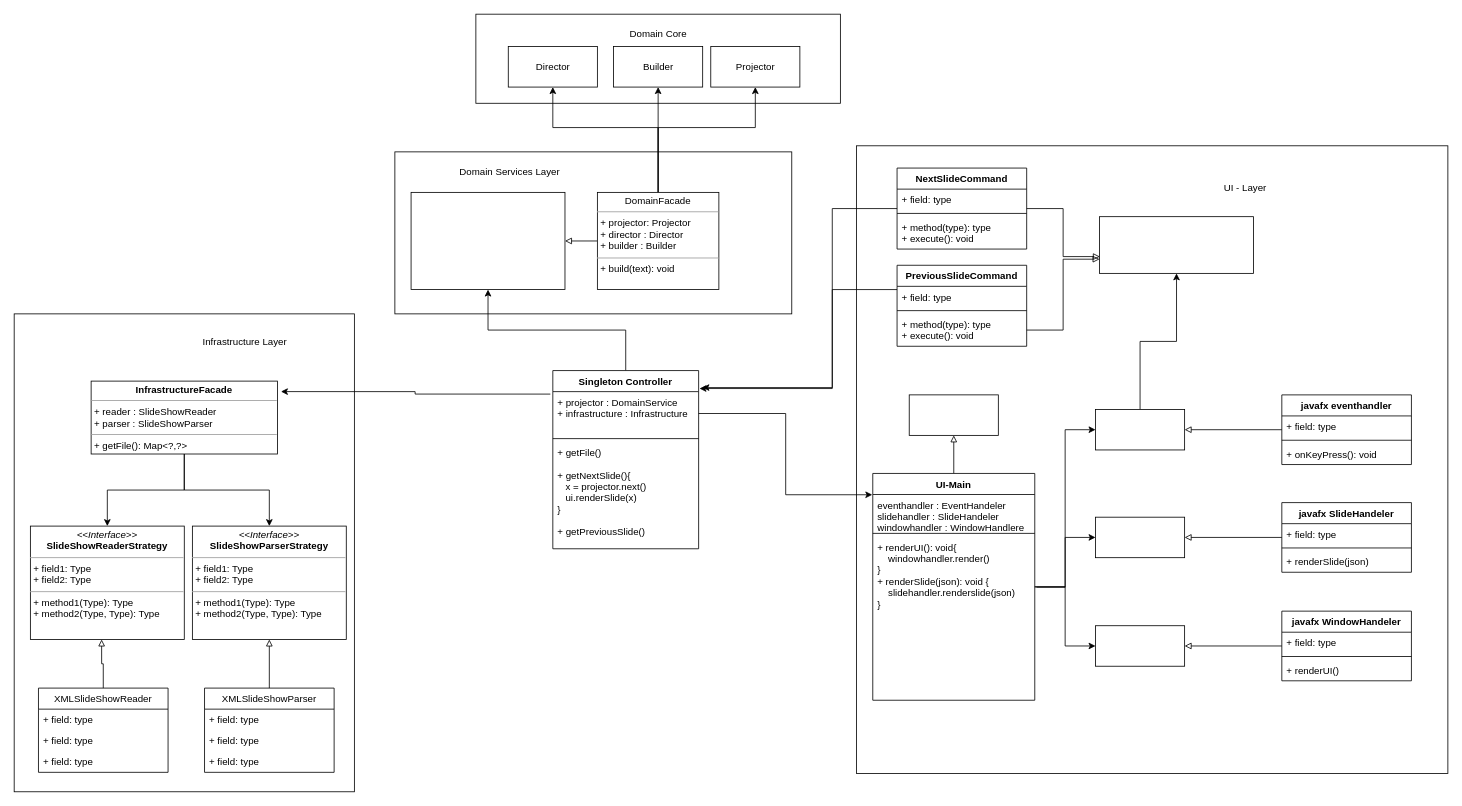
Some shapes in this 1462 by 806 pixel diagram are drawn without their labels. Here are the shapes that lost their labels. From the top down, the centre of each, then its label:
At [487,241]: "<<Interface>> DomainService + + build(text): void".
At [1176,244]: "<<Interface>> Command + execute: void".
At [953,414]: "«interface» GUI".
At [1140,429]: "«interface» EventHandler".
At [1140,537]: "«interface» SlideHandeler".
At [1140,645]: "«interface» WindowHandeler".
